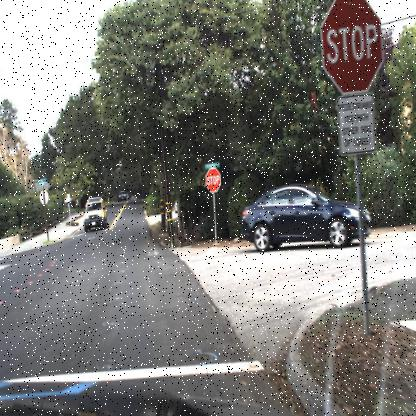car: (228, 178, 376, 258), (83, 196, 110, 237), (116, 186, 128, 202), (118, 186, 127, 200)
